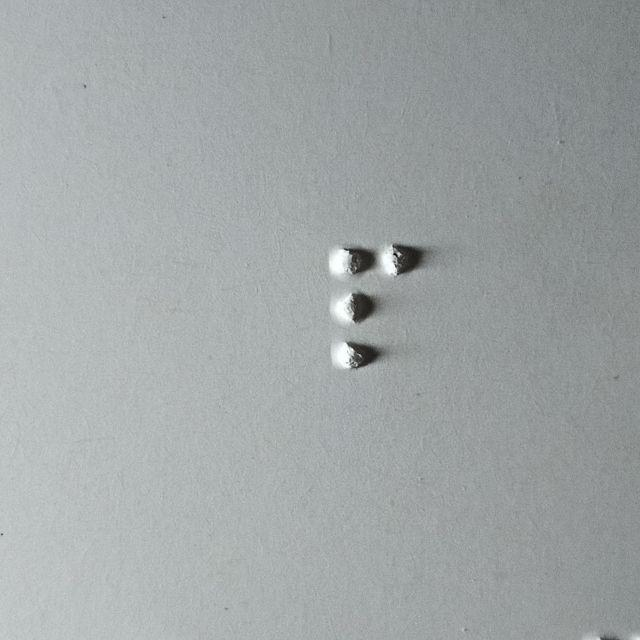p: (332, 240, 420, 373)
